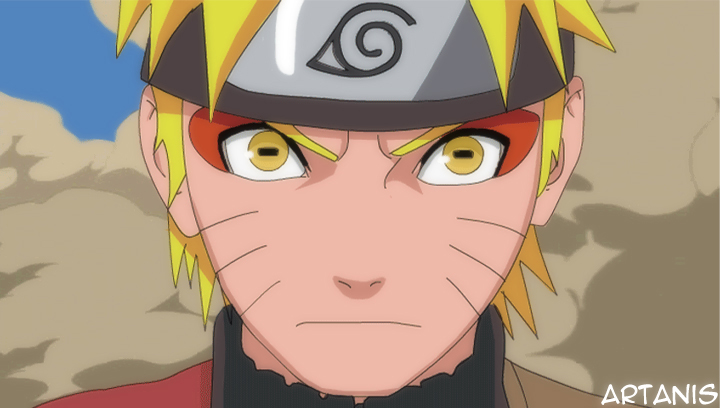naruto: (131, 1, 587, 402)
